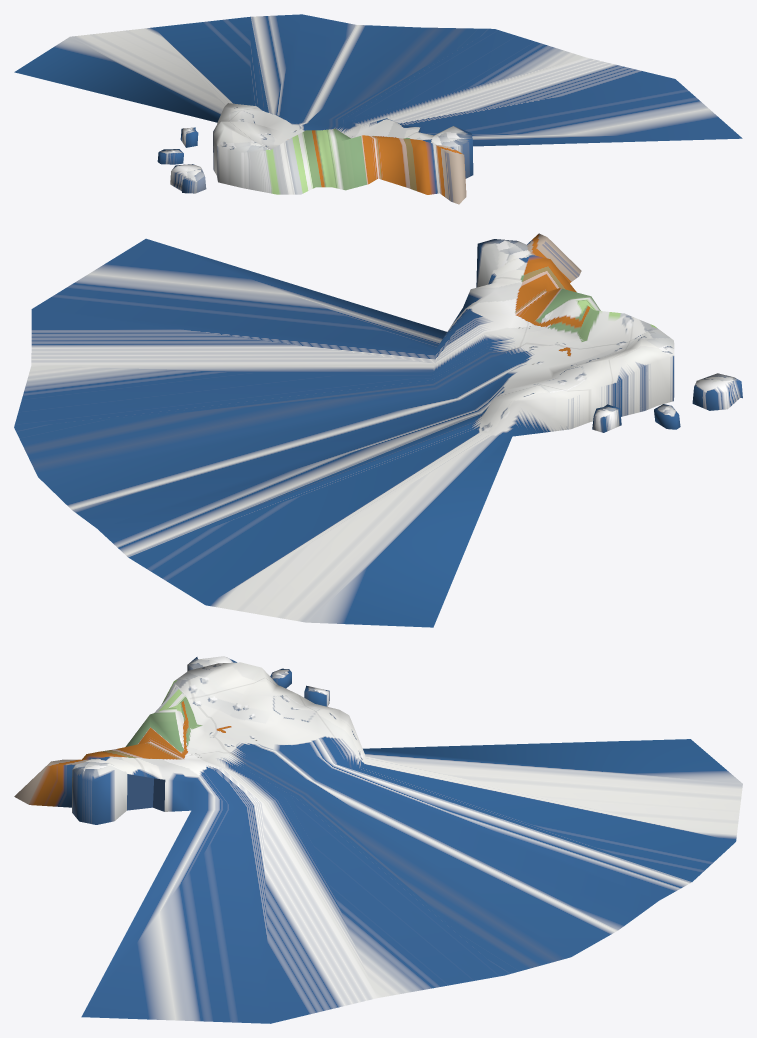
Rendered from beach.fbx.
3 views of the same model, one above another, from view 1: azimuth 30°, elevation 25°; view 2: azimuth 150°, elevation 25°; view 3: azimuth 270°, elevation 25° (orthographic). The views are drawn at different scales.
Parts seen in each view (by area): view 1: beach; view 2: beach; view 3: beach.
Part boxes in pixels (x1=…): beach: x1=14, y1=14, x2=742, y2=204; beach: x1=14, y1=233, x2=742, y2=627; beach: x1=14, y1=656, x2=742, y2=1023.
Bounding box in the file's own units: 34263 × 5194 × 34206.
